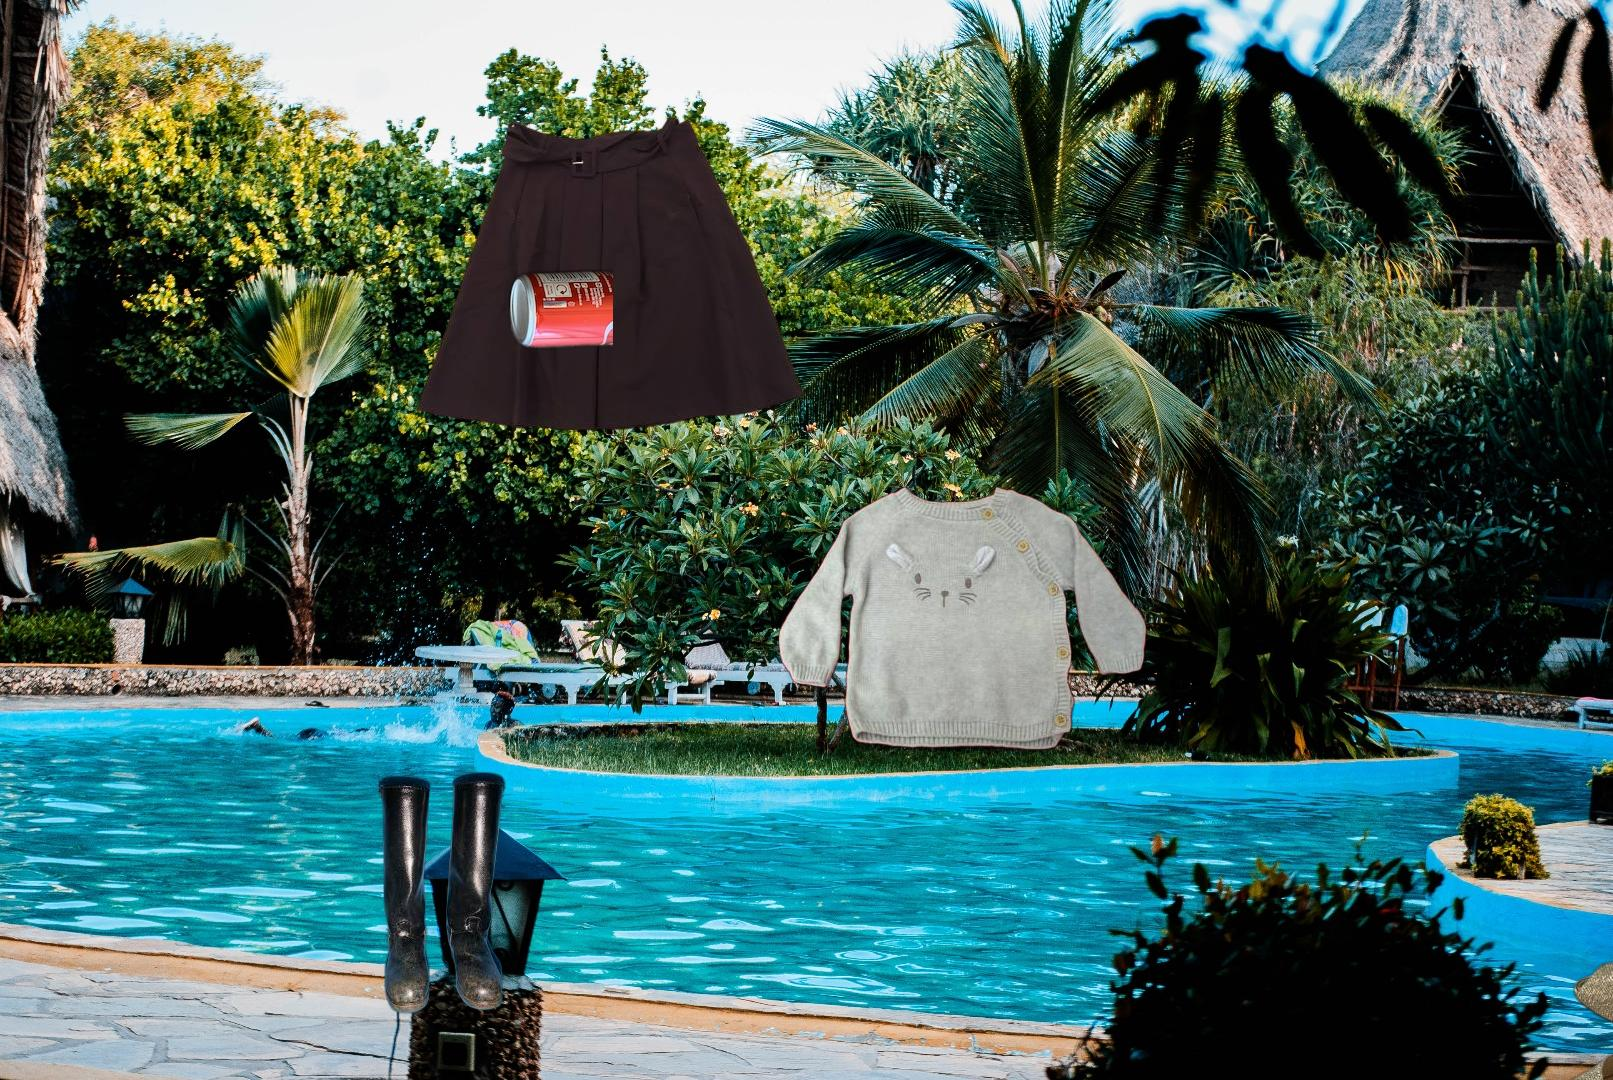clothes: (414, 114, 808, 433), (776, 483, 1150, 753)
metal-cans: (504, 264, 613, 355)
shoes: (376, 771, 508, 1025), (1537, 795, 1613, 1080)
